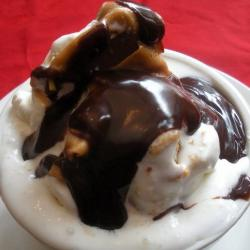icecream: (25, 13, 246, 213)
